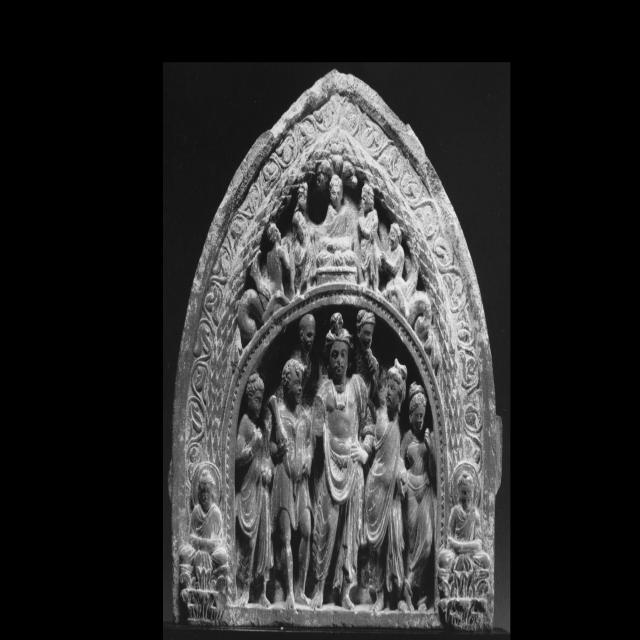buddha-sitting: (316, 173, 358, 280)
buddha-standing: (312, 313, 374, 609)
